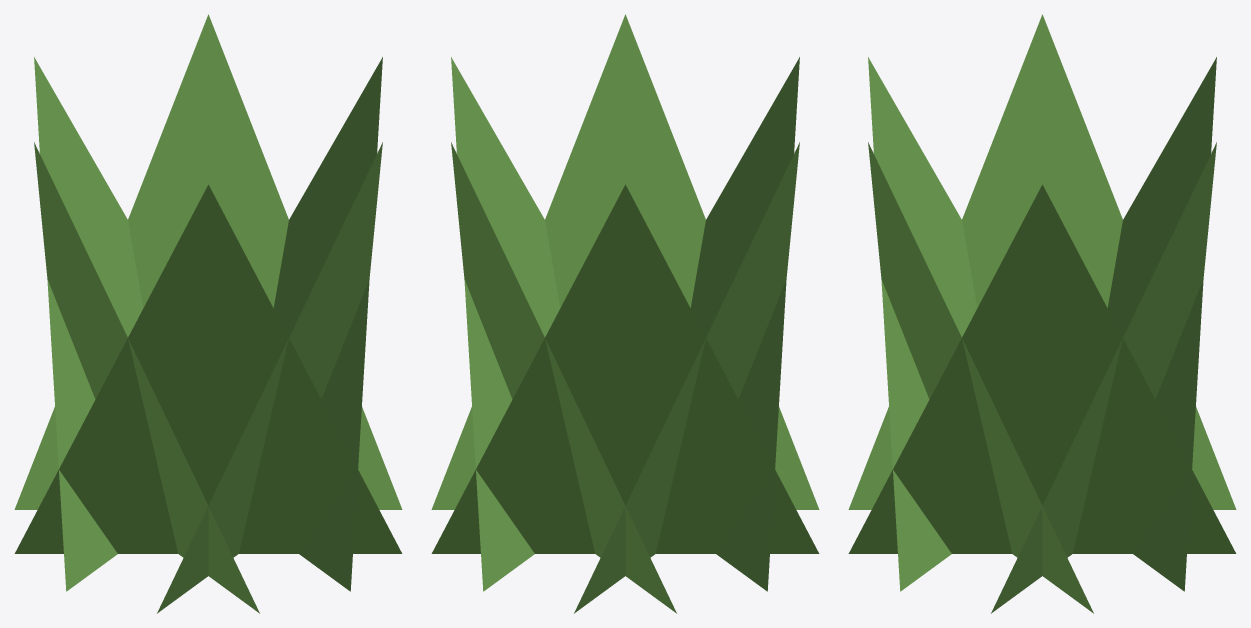
Rendered from grass_short.glb.
3 renders of one model, left to right at view 1: azimuth 30°, elevation 25°; view 2: azimuth 150°, elevation 25°; view 3: azimuth 270°, elevation 25°, orthographic.
Visible parts, largest first — view 1: GRASS_SHORT; view 2: GRASS_SHORT; view 3: GRASS_SHORT.
Part boxes in pixels (x1,y1,x2,y2): GRASS_SHORT: [14, 14, 402, 613]; GRASS_SHORT: [431, 14, 819, 613]; GRASS_SHORT: [848, 14, 1236, 613].
Size of the model in its own units: 0.27 by 0.32 by 0.26.
